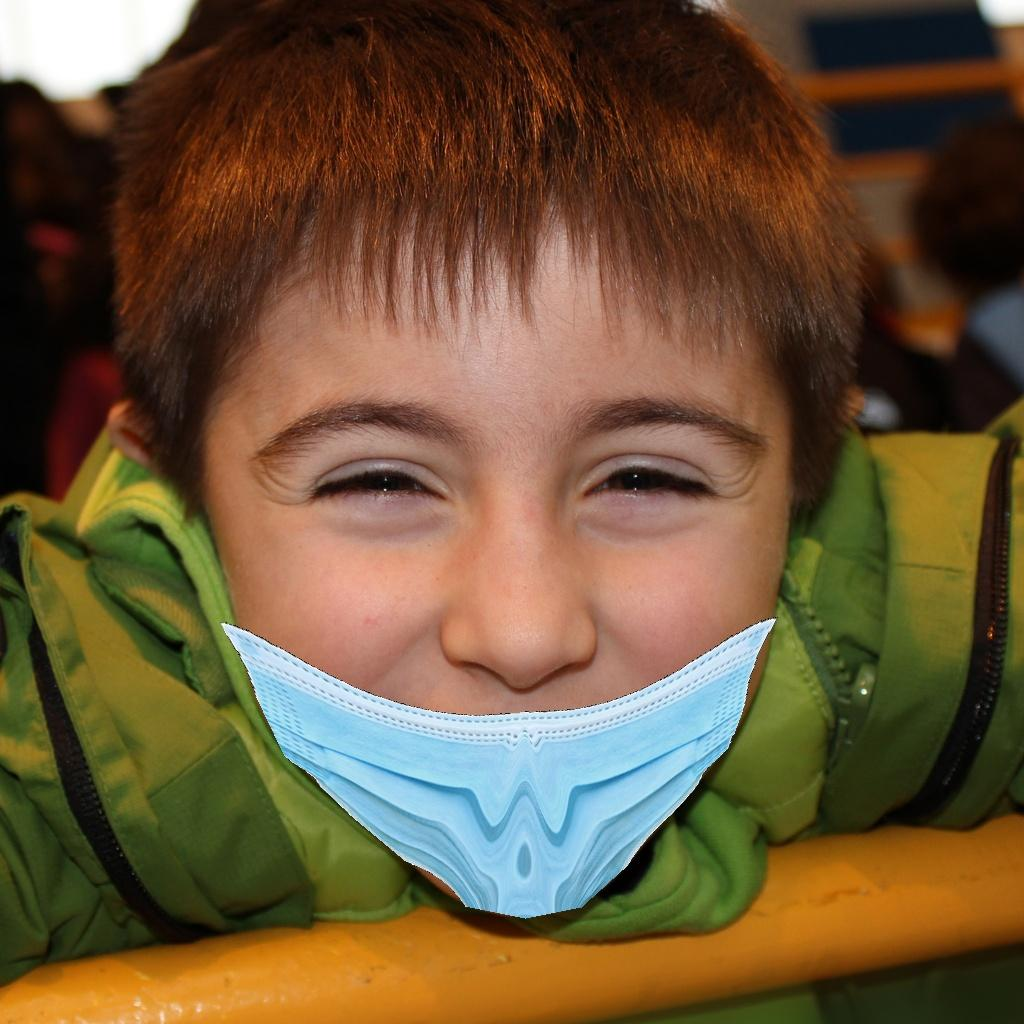Máscara Incorreta: (180, 226, 850, 952)
